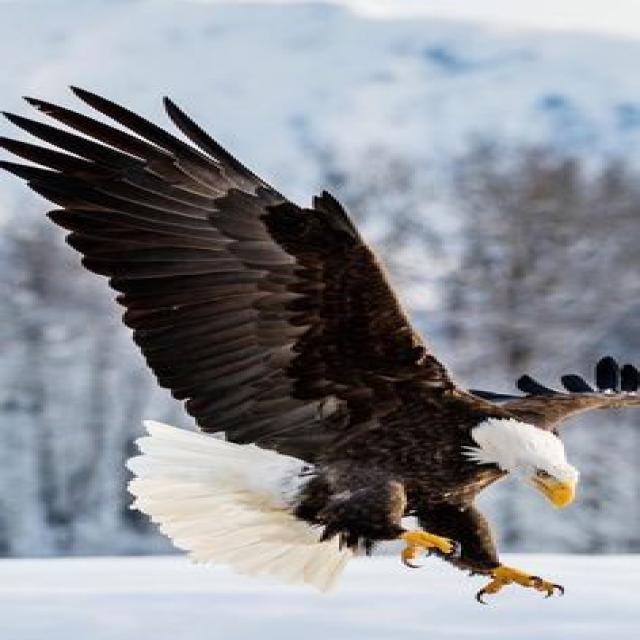Carnivorous: (0, 87, 640, 603)
